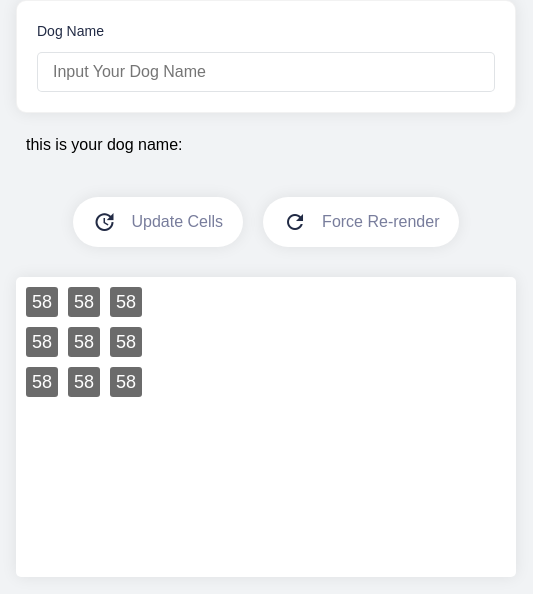
Test case: Testing Part 4 Context Section › All Cell Item Should Be Updated
Expected: the 1st button with test id "grid-cell" reads "58", [26,287,58,317]
Click the button "Update Cells" at {"x": 158, "y": 222}, box [72,197,243,247]
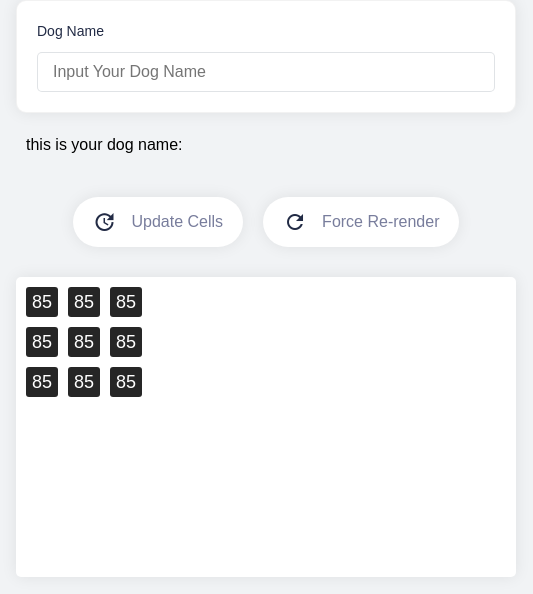
Now the 1st button with test id "grid-cell" reads "85", box [26,287,58,317]
